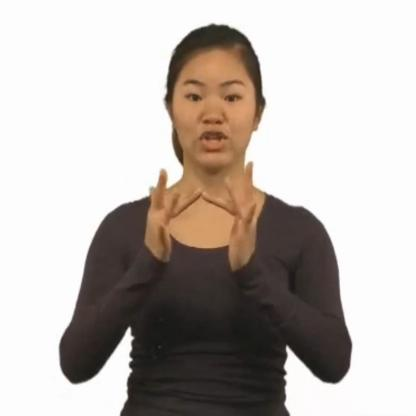Internet: (141, 151, 275, 276)
